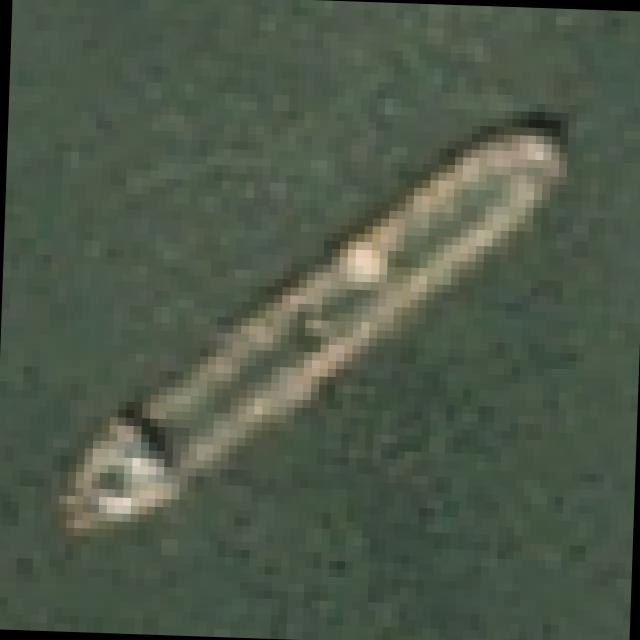ship: (17, 96, 606, 584)
